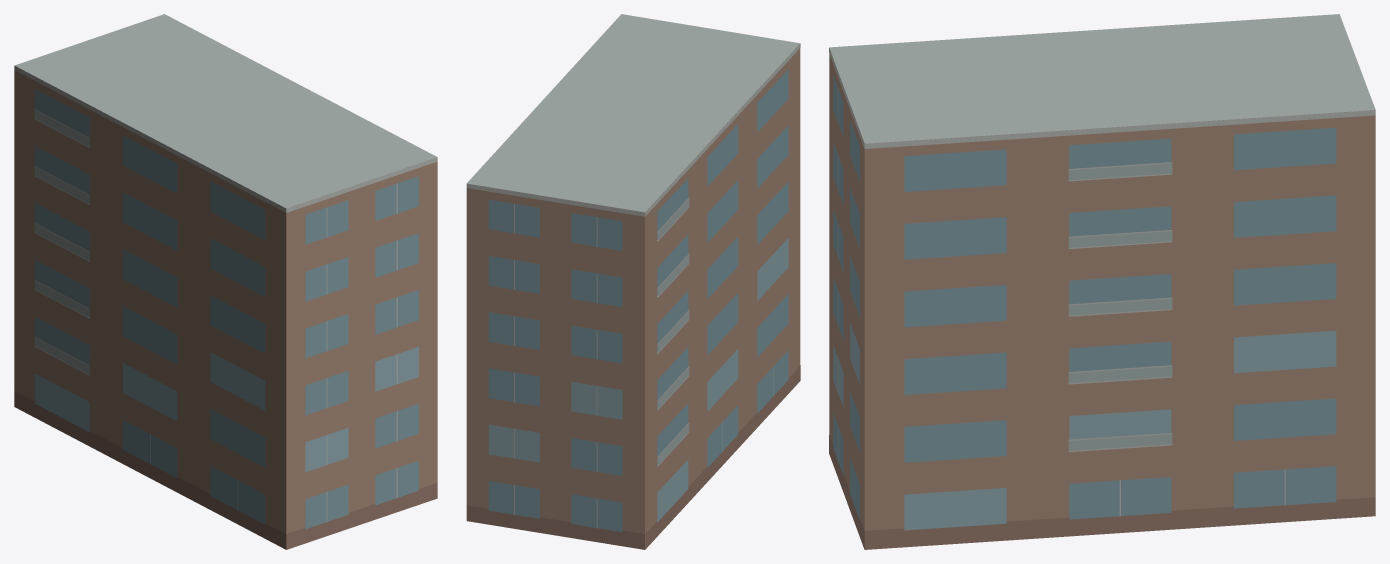
File: survey-upis-32575144.glb
The picture shows the model from 3 angles, left to right: view 1: azimuth 30°, elevation 25°; view 2: azimuth 150°, elevation 25°; view 3: azimuth 270°, elevation 25°; orthographic projection. The views are drawn at different scales.
Visible parts, largest first — view 1: survey-upis-32575144.tmp; view 2: survey-upis-32575144.tmp; view 3: survey-upis-32575144.tmp.
Part boxes in pixels (<box>): survey-upis-32575144.tmp: <box>14,14,437,549</box>; survey-upis-32575144.tmp: <box>466,14,800,549</box>; survey-upis-32575144.tmp: <box>829,14,1375,549</box>.
Bounding box in the file's own units: 12.76 × 18.6 × 22.7.
